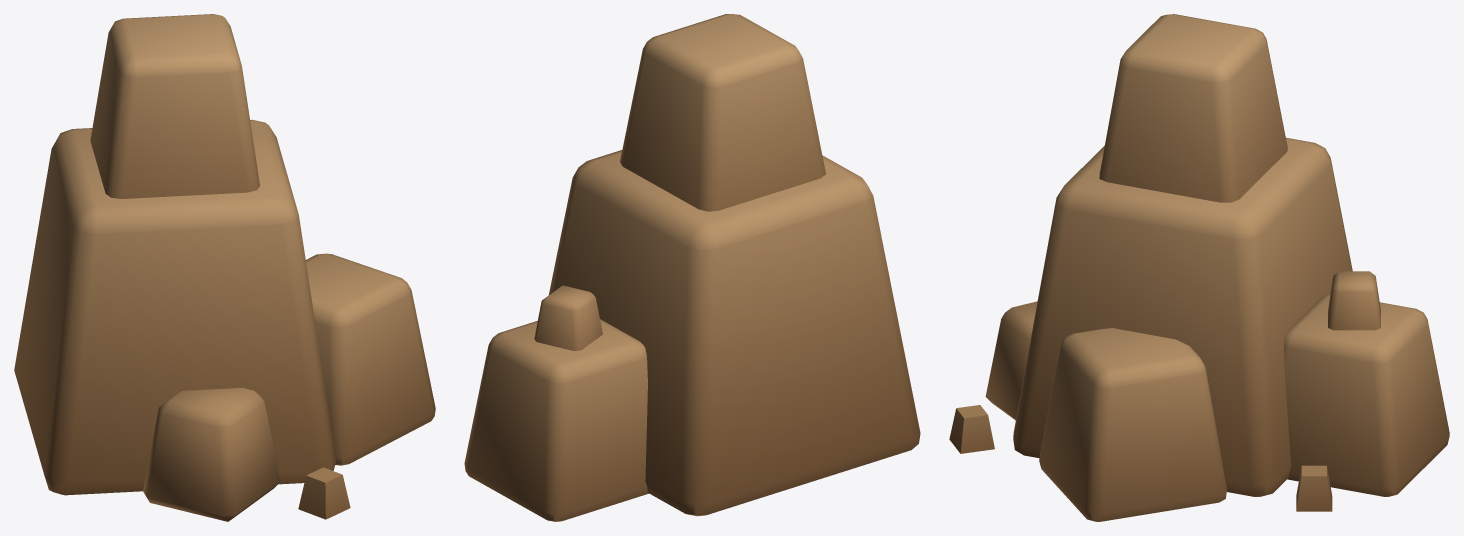
Rendered from Rock_2_G_Color5.fbx.
3 renders of one model, left to right at view 1: azimuth 30°, elevation 25°; view 2: azimuth 150°, elevation 25°; view 3: azimuth 270°, elevation 25°, orthographic. The views are drawn at different scales.
Parts seen in each view (by area): view 1: Rock_2_G_Color5; view 2: Rock_2_G_Color5; view 3: Rock_2_G_Color5.
Part boxes in pixels (x1,y1,x2,y2): Rock_2_G_Color5: (14, 14, 435, 521); Rock_2_G_Color5: (464, 14, 920, 521); Rock_2_G_Color5: (949, 14, 1449, 521).
Bounding box in the file's own units: 3.09 × 3.2 × 3.73.
